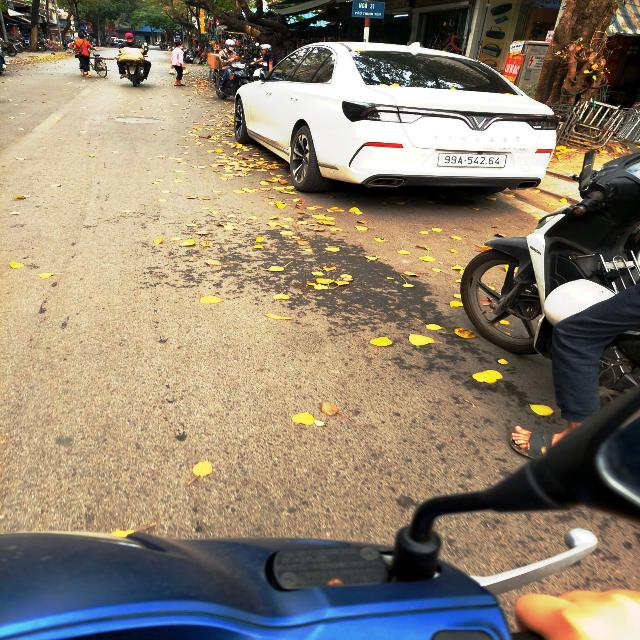license_plate: (437, 153, 508, 169)
